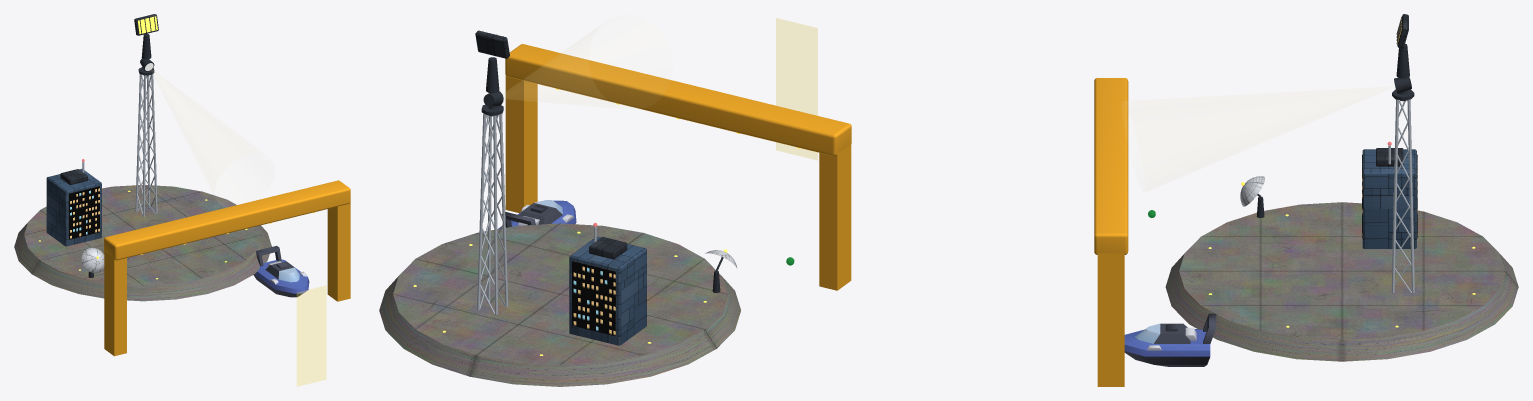
Rendered from customs-T4.glb.
3 views of the same model, side by side, from view 1: azimuth 30°, elevation 25°; view 2: azimuth 150°, elevation 25°; view 3: azimuth 270°, elevation 25° (orthographic). The views are drawn at different scales.
Visible parts, largest first — view 1: object 1, object 81, anim:scan, object 80, object 79, object 11, boat-speed-a, object 12, anim:rot (×2), object 14; view 2: object 1, object 81, object 79, object 80, object 11, anim:scan, object 13, boat-speed-a, anim:rot, object 14, object 77; view 3: object 1, object 81, object 11, object 80, boat-speed-a.
Part boxes in pixels (x1,y1,x2,y2): object 1: (14, 185, 271, 301); object 81: (104, 180, 350, 260); anim:scan: (297, 286, 326, 386); object 80: (327, 203, 350, 301); object 79: (104, 251, 126, 356); object 11: (46, 169, 101, 246); boat-speed-a: (253, 245, 309, 297); object 12: (68, 186, 99, 239); anim:rot (×2): (81, 14, 158, 273); object 14: (60, 169, 87, 184); object 1: (379, 223, 740, 386); object 81: (505, 44, 851, 156); object 79: (819, 144, 851, 290); object 80: (505, 75, 537, 212); object 11: (569, 236, 646, 345); anim:scan: (776, 18, 817, 160); object 13: (572, 261, 615, 336); boat-speed-a: (498, 200, 576, 228); anim:rot: (475, 30, 509, 58); object 14: (589, 237, 627, 259); object 77: (486, 57, 499, 93); object 1: (1165, 202, 1518, 361); object 81: (1094, 78, 1128, 254); object 11: (1362, 149, 1416, 248); object 80: (1097, 253, 1124, 386); boat-speed-a: (1124, 313, 1216, 366).
Bounding box in the file's own units: 5.5 × 4.98 × 9.4.
17 materials, 7 textured.
